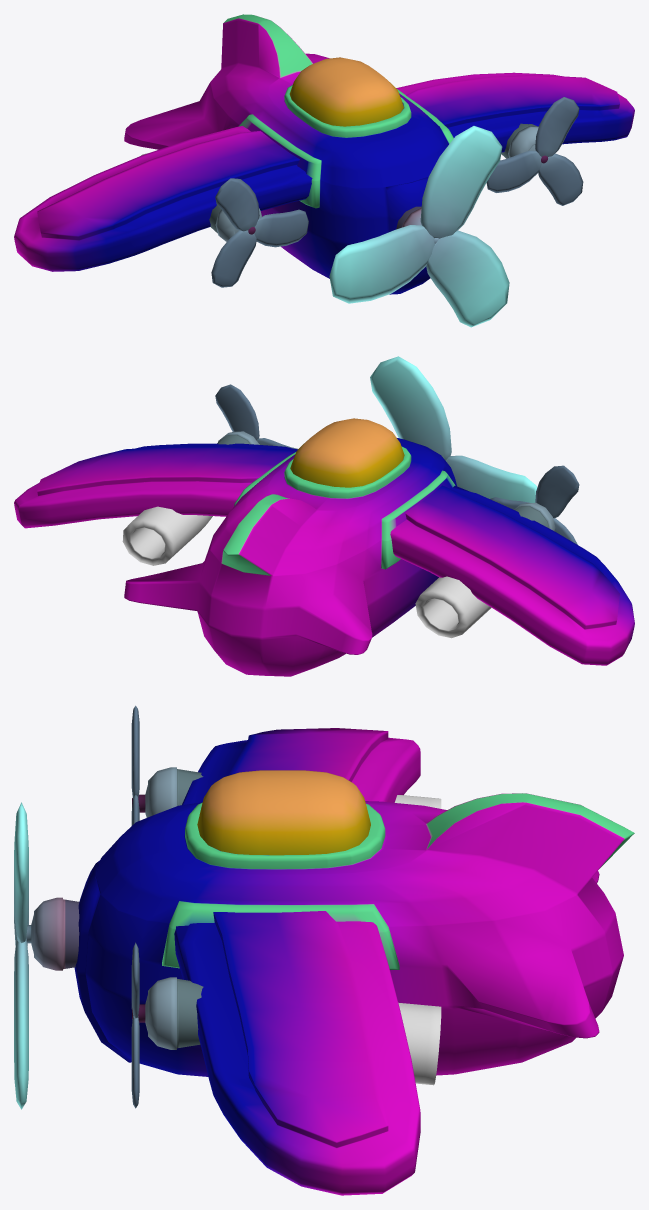
File: самолет 6.fbx
The picture shows the model from 3 angles, top to bottom: view 1: azimuth 30°, elevation 25°; view 2: azimuth 150°, elevation 25°; view 3: azimuth 270°, elevation 25°; orthographic projection. The views are drawn at different scales.
Parts seen in each view (by area): view 1: Cube.029, Cube.030, Cube.022, Cube.021, Cube.001, Cube.028, Cylinder.018; view 2: Cube.030, Cube.029, Cube.022, Cylinder.016, Cube.021, Cube.001, Cube.028, Cylinder.018; view 3: Cube.030, Cube.029, Cube.021, Cylinder.018, Cube.022, Cylinder.017, Cylinder.016, Cube.028, Cube.001.
Part boxes in pixels (x1,y1,x2,y2): Cube.029: [14, 72, 634, 271]; Cube.030: [124, 14, 453, 294]; Cube.022: [329, 126, 509, 327]; Cube.021: [289, 57, 403, 126]; Cube.001: [211, 178, 308, 287]; Cube.028: [486, 97, 583, 205]; Cylinder.018: [209, 123, 547, 241]; Cube.030: [124, 438, 456, 676]; Cube.029: [14, 443, 634, 665]; Cube.022: [370, 356, 537, 502]; Cylinder.016: [122, 506, 491, 638]; Cube.021: [290, 418, 404, 487]; Cube.001: [490, 465, 579, 544]; Cube.028: [215, 384, 297, 449]; Cylinder.018: [217, 431, 555, 531]; Cube.030: [74, 793, 634, 1076]; Cube.029: [174, 728, 420, 1195]; Cube.021: [197, 770, 370, 855]; Cylinder.018: [132, 767, 203, 1049]; Cube.022: [14, 802, 28, 1109]; Cylinder.017: [26, 897, 79, 970]; Cylinder.016: [394, 795, 441, 1085]; Cube.028: [131, 942, 139, 1108]; Cube.001: [131, 705, 139, 825].
Size of the model in its own units: 642 by 205 by 391.
